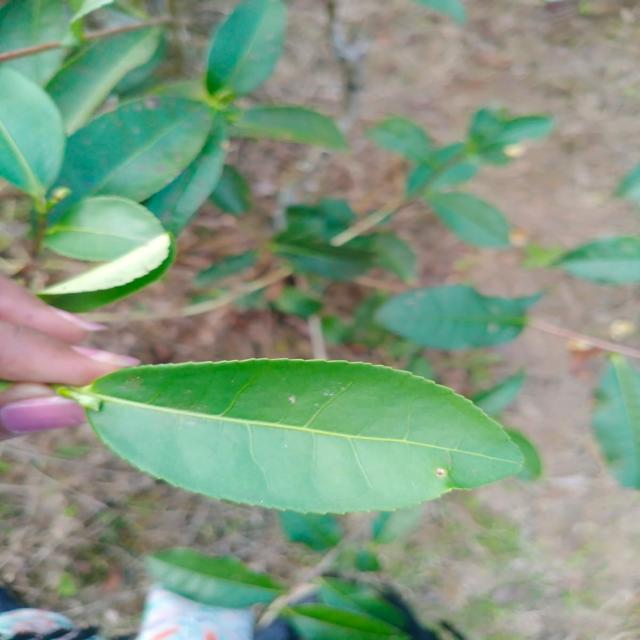Category D(7+ days, Not for Tea): (63, 330, 564, 554)
